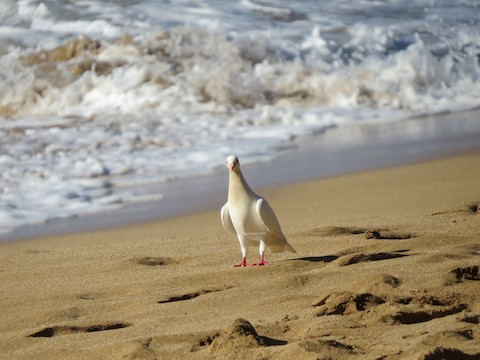pigeon: (218, 154, 302, 271)
